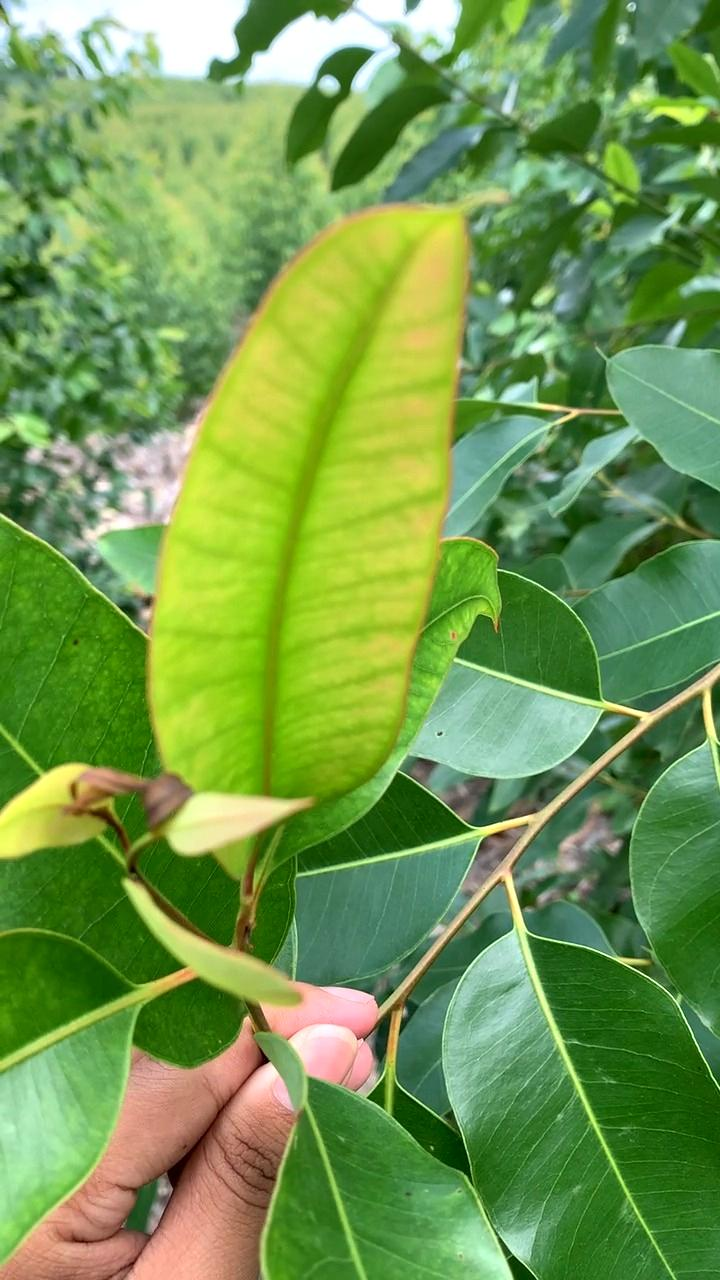Helopeltis-Withered Sprout: (46, 755, 211, 891)
